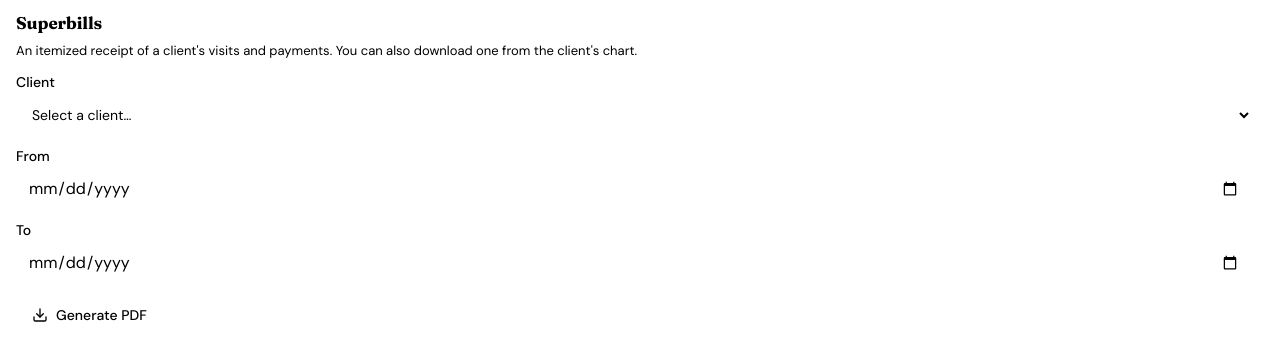
SuperbillsPage › requests the picked client and period, and downloads the PDF under the route's name
The width and height of the screenshot is (1269, 349).
Select "Anon, John" in the dropdown labelled "Client" at (634, 115), box [16, 97, 1252, 133]
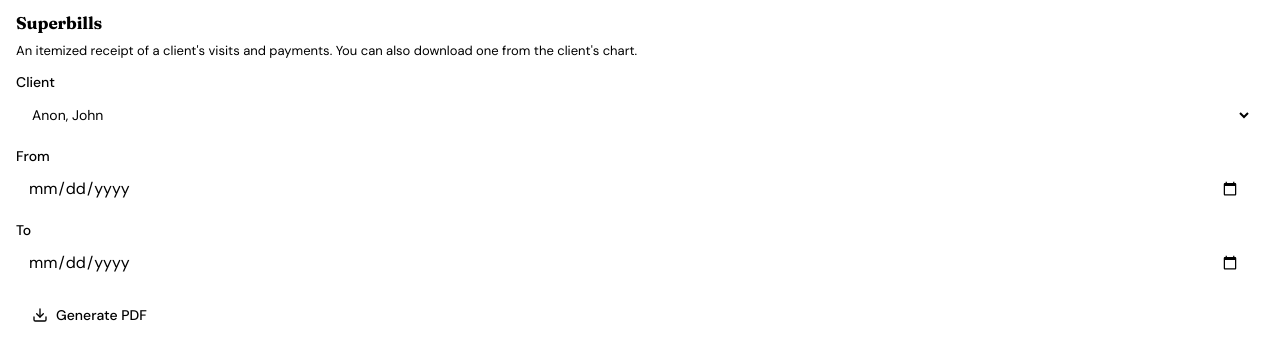
Type "2026-09-01" into the date field labelled "From".
click(634, 189); type("2026-09-01")  # box [16, 171, 1252, 207]
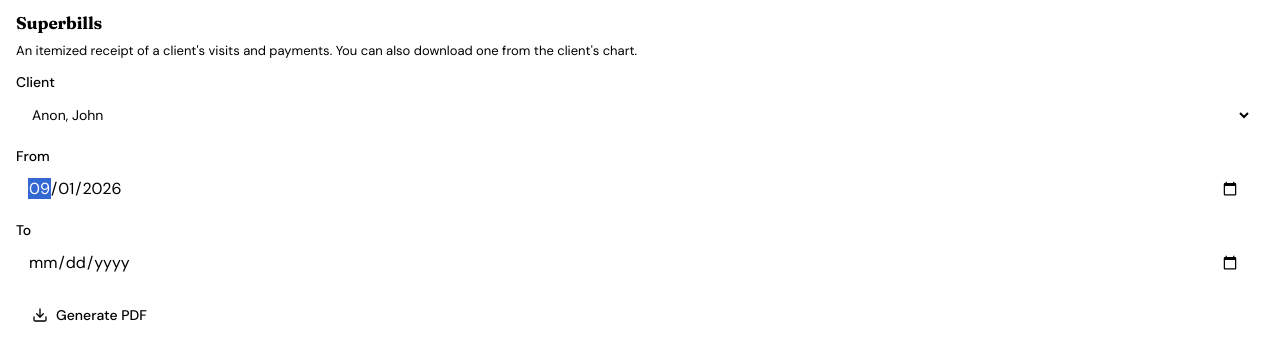
Type "2026-09-30" into the date field labelled "To".
click(634, 263); type("2026-09-30")  # box [16, 245, 1252, 281]
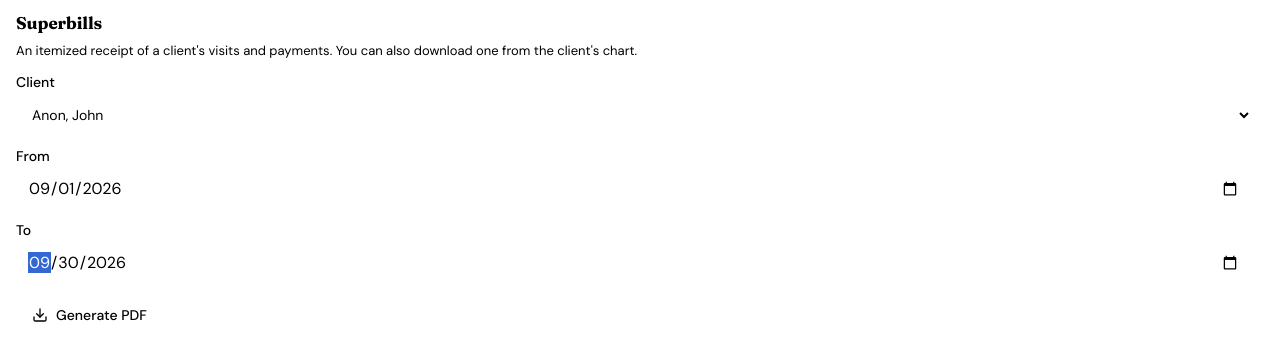
Click the button "Generate PDF".
click(89, 315)  # box [16, 297, 163, 333]
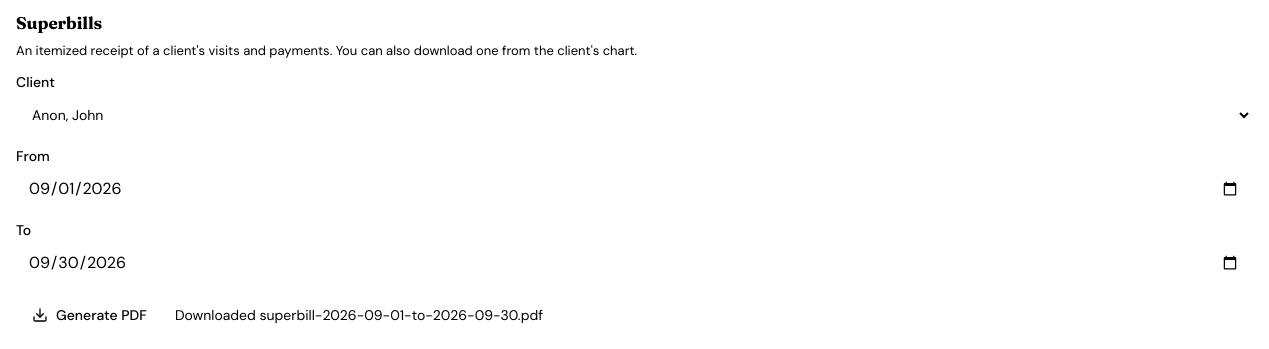
Result: the message reads "Downloaded superbill-2026-09-01-to-2026-09-30.pdf" at [175, 305, 543, 325]
